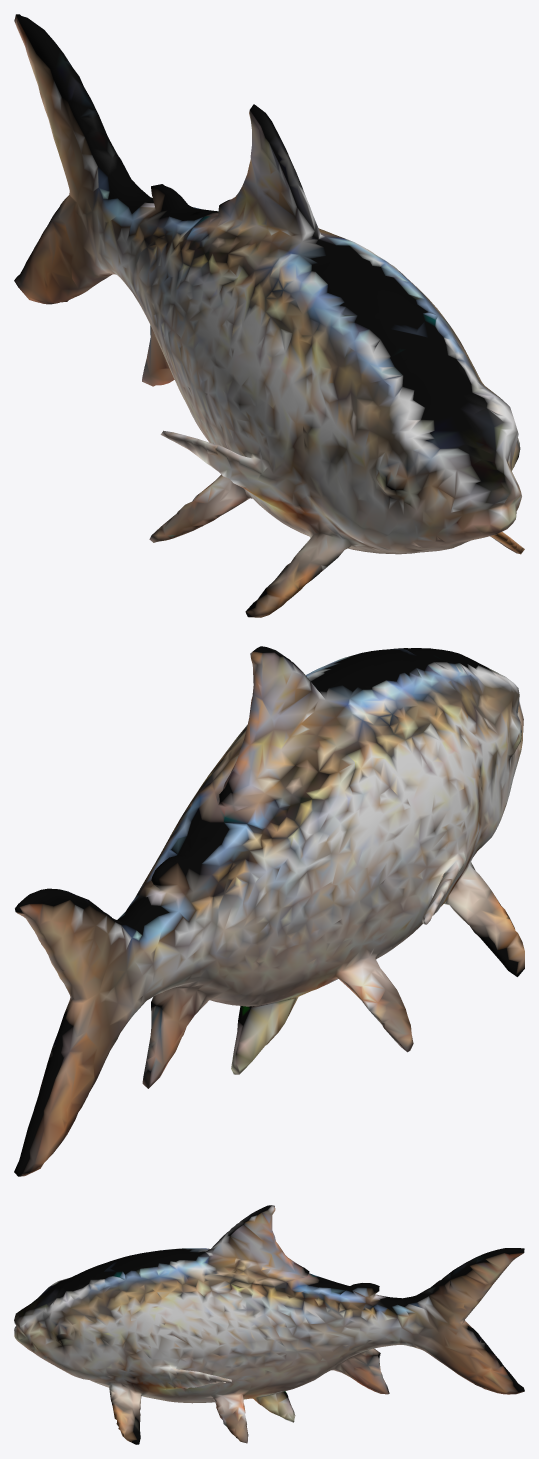
The model's file is fish_reba.glb.
3 views of the same model, one above another, from view 1: azimuth 30°, elevation 25°; view 2: azimuth 150°, elevation 25°; view 3: azimuth 270°, elevation 25° (orthographic). The views are drawn at different scales.
Visible parts, largest first — view 1: geometry_0; view 2: geometry_0; view 3: geometry_0.
Boxes of the visible parts, bbox=[...] form: geometry_0: bbox=[14, 14, 524, 617]; geometry_0: bbox=[14, 646, 524, 1176]; geometry_0: bbox=[14, 1205, 524, 1444].
Bounding box in the file's own units: 0.6367 × 0.9181 × 1.96.
